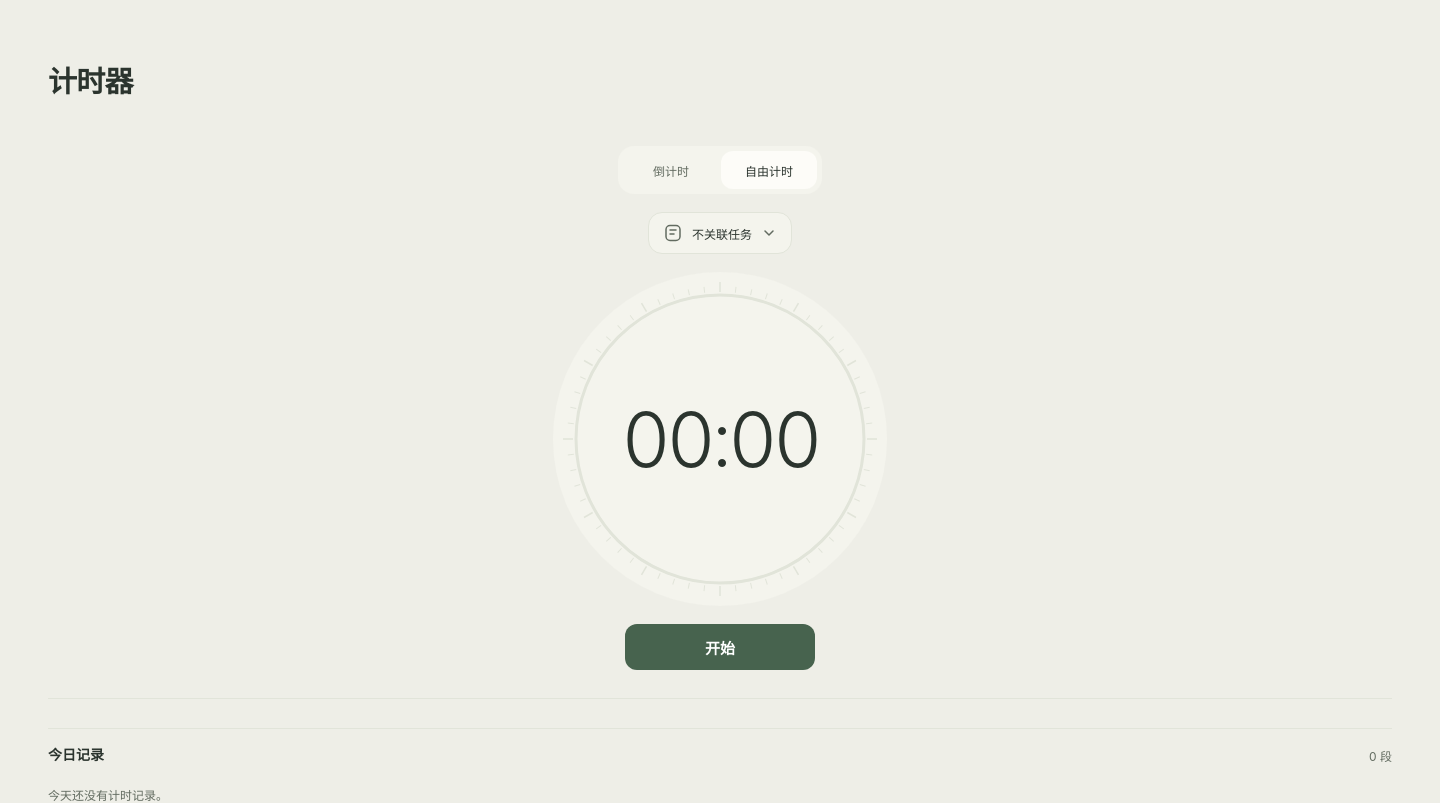
it: TimerView › supports countdown presets and validates custom minutes
Click the button "倒计时": (671, 170) [623,151,719,189]
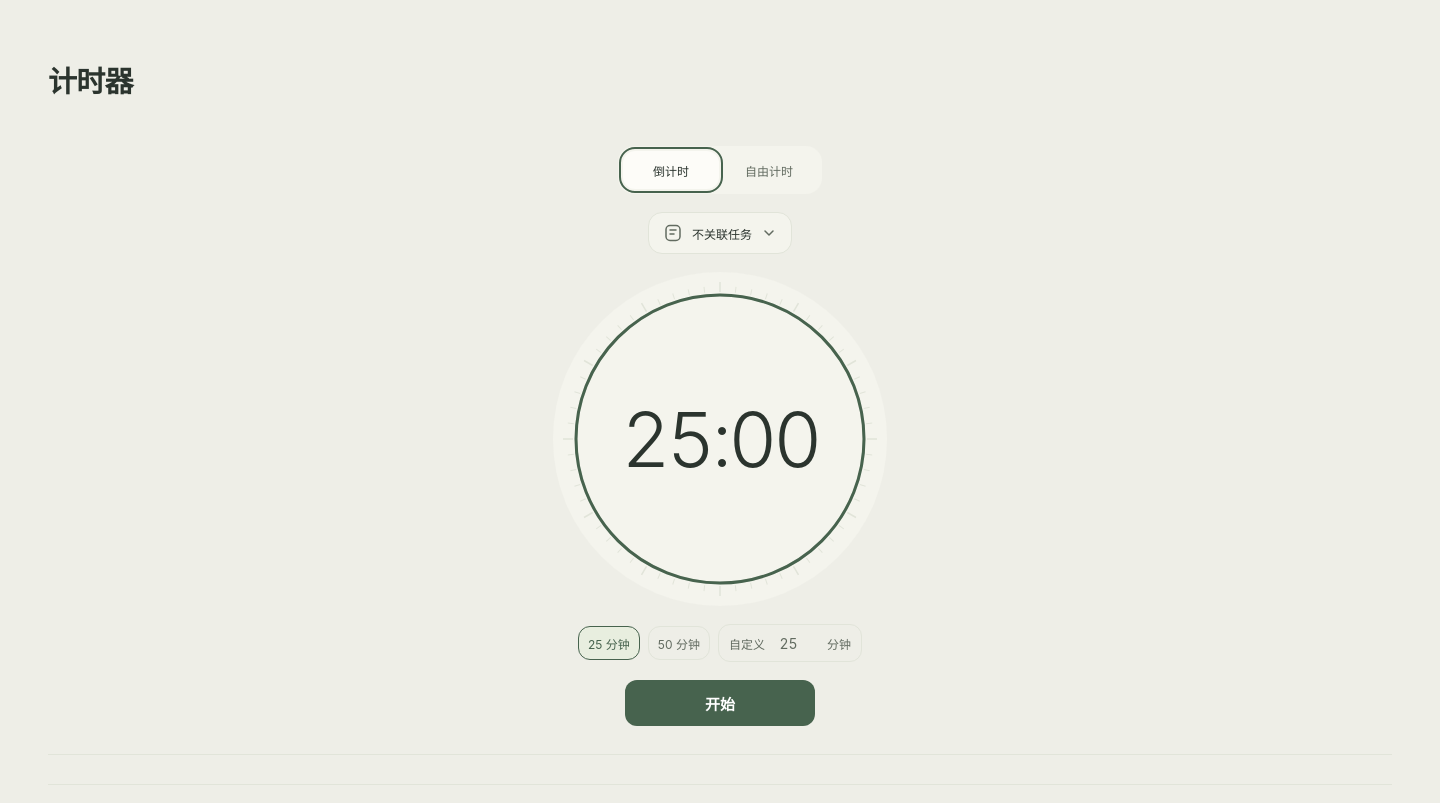
Expected: the element named "倒计时设置" is shown, [578,624,862,662]
Click the button "50 分钟": (679, 643) [648,626,710,660]
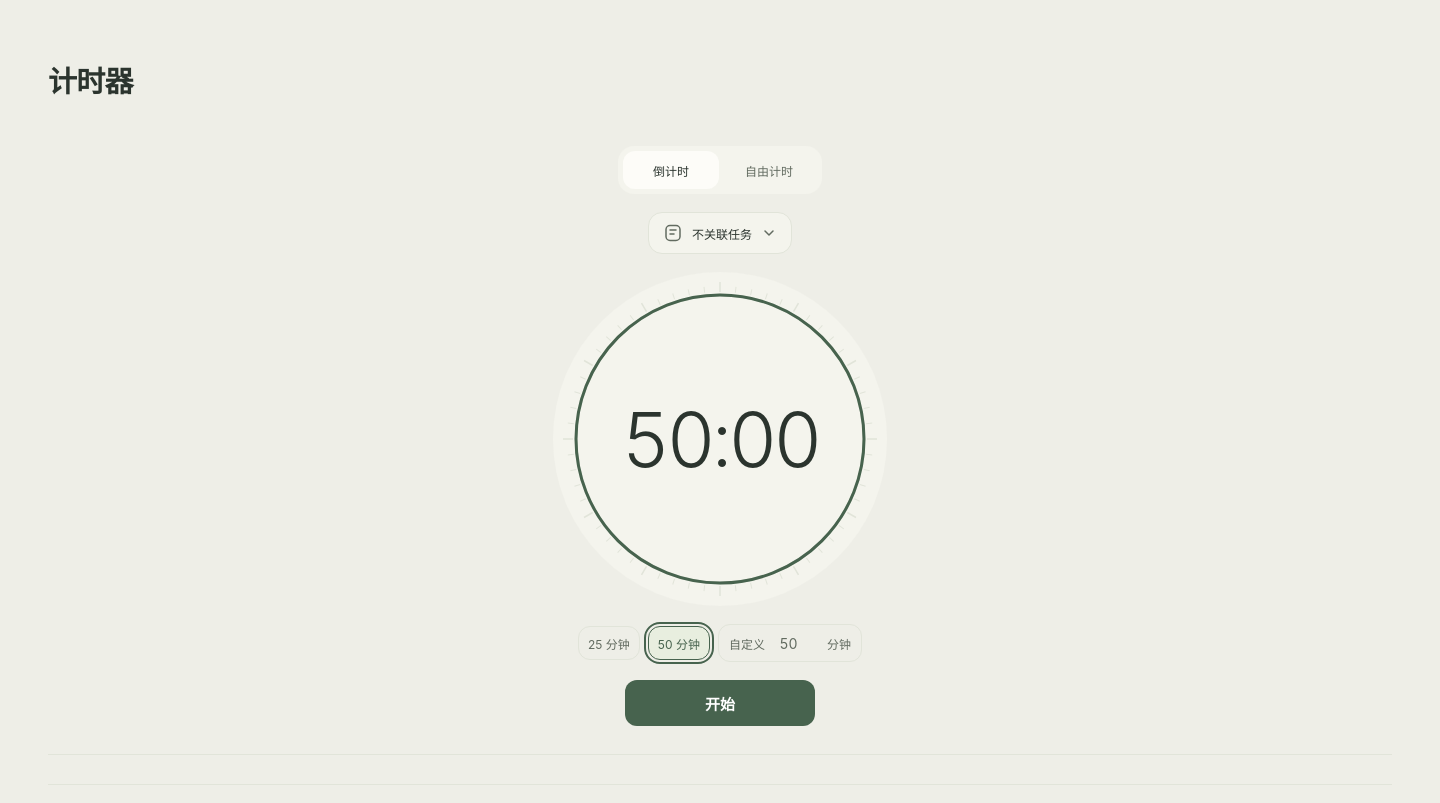
Expected: the text "50:00" is shown, [622,393,819,485]
Click the button "开始": (720, 703) [625,680,815,726]
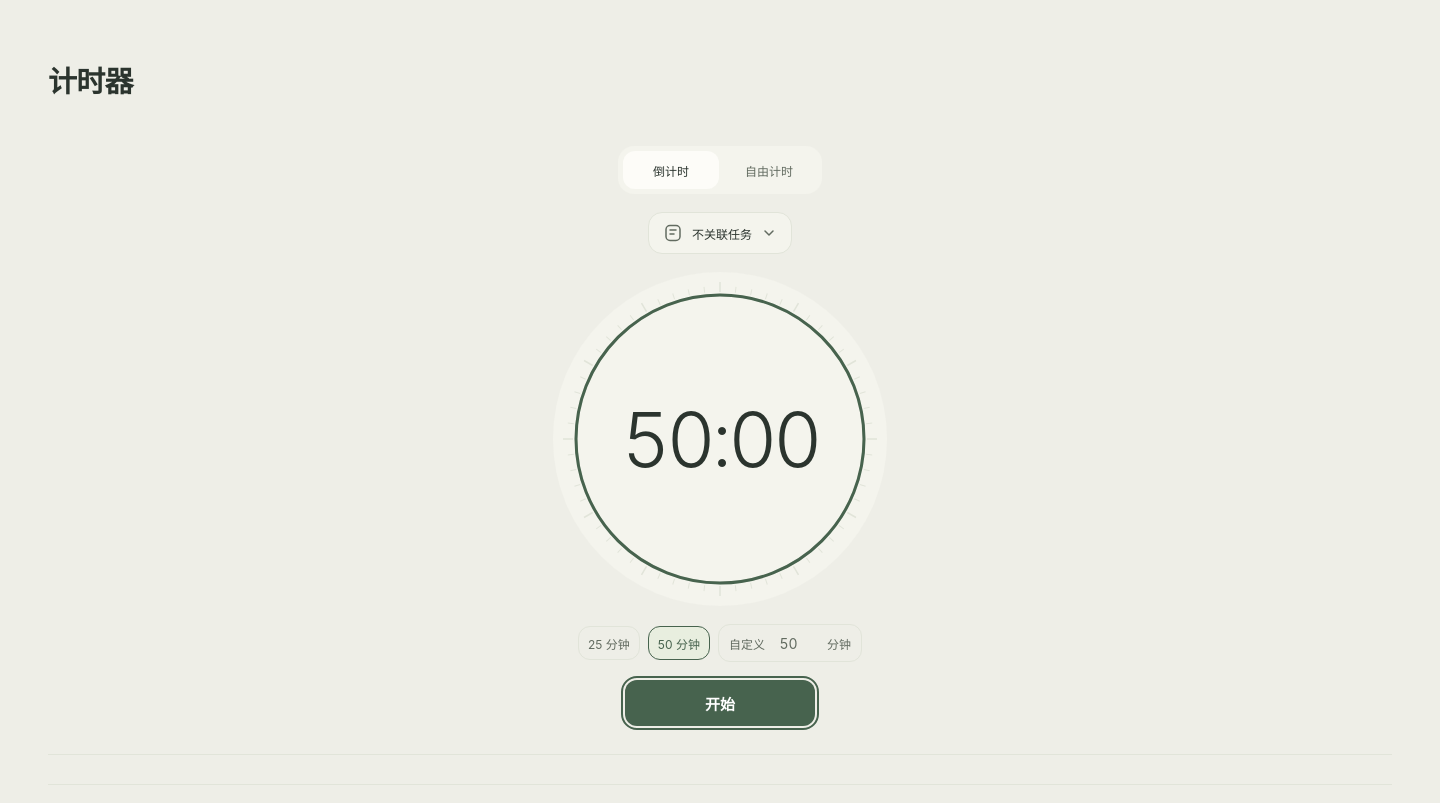
Replace the text in the number field named "自定义倒计时分钟" with "181": (796, 643) [770,629,822,657]
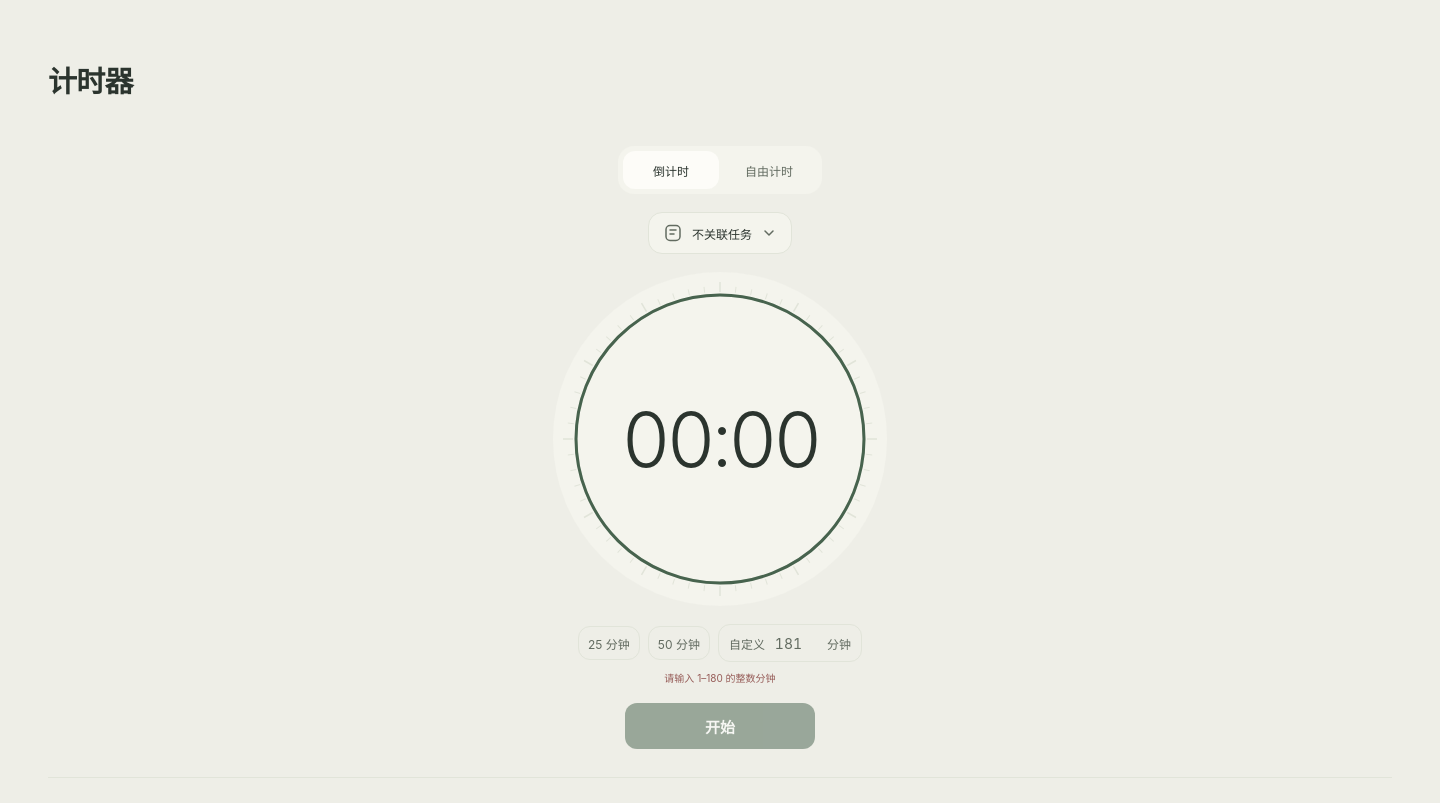
Expected: the message shows "1–180", [664,672,776,684]
Expected: the button "开始" is disabled, [625,703,815,749]
Click the button "自由计时": (769, 170) [721,151,817,189]
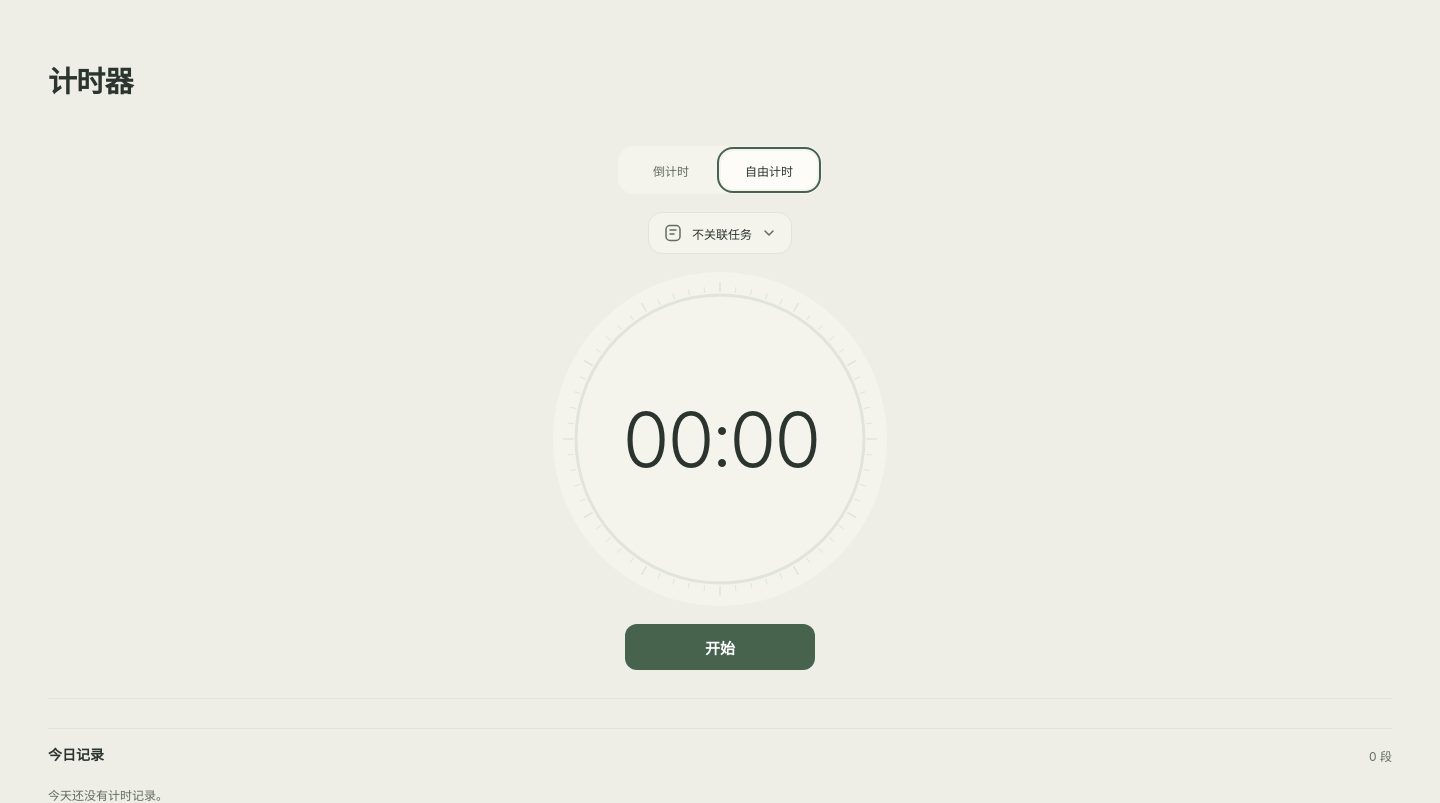
Expected: the button "开始" is enabled, [625,624,815,670]
